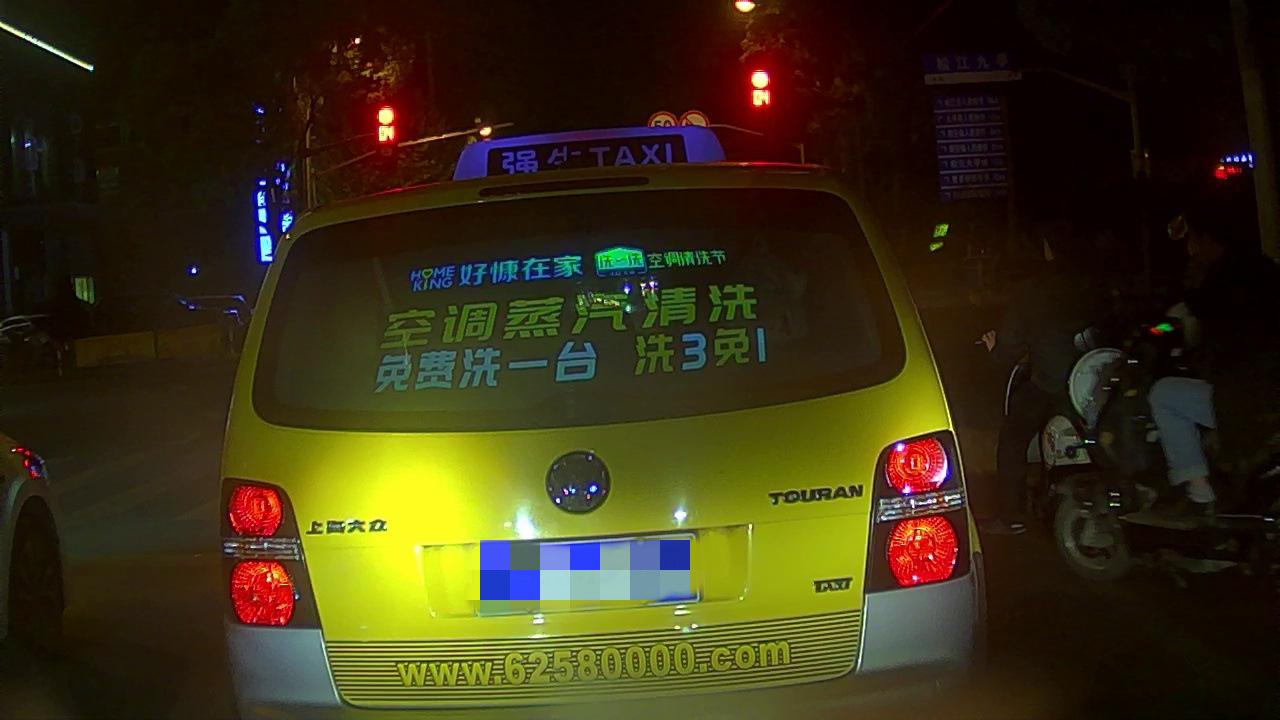traffic_light: (376, 105, 396, 157), (750, 68, 771, 113)
